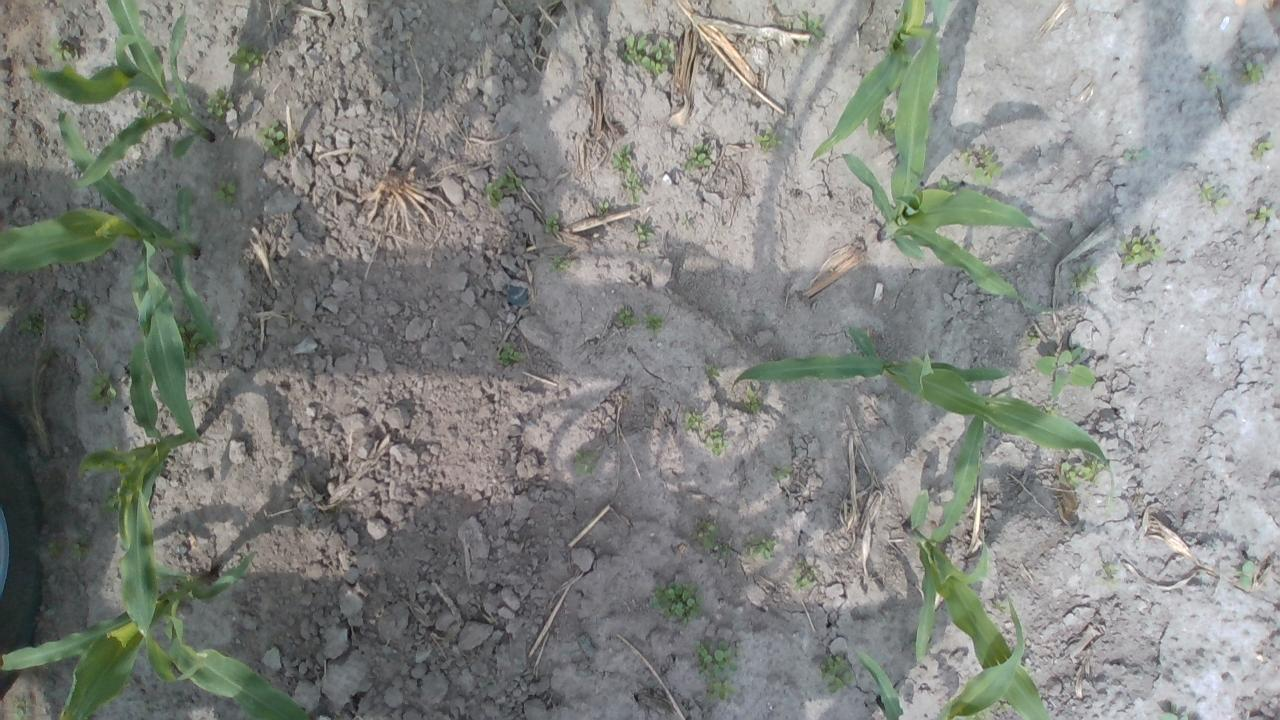Maize: (0, 451, 310, 720), (0, 110, 223, 451), (843, 0, 1046, 315), (732, 323, 1114, 490), (75, 294, 204, 686), (904, 414, 1054, 720), (33, 0, 215, 189), (854, 593, 1024, 720), (808, 0, 934, 163)
Weeds: (1034, 347, 1096, 398), (648, 580, 704, 625), (622, 35, 674, 74), (484, 168, 526, 210), (961, 144, 1002, 187), (696, 638, 739, 676), (174, 318, 204, 368), (819, 654, 856, 694), (255, 118, 291, 159), (1120, 235, 1164, 267), (1060, 458, 1106, 488), (792, 12, 826, 48), (228, 42, 264, 75), (86, 372, 118, 406), (204, 86, 234, 120), (1197, 180, 1233, 208), (705, 676, 737, 704), (744, 534, 777, 560), (46, 37, 76, 65), (16, 308, 44, 338), (753, 128, 784, 154), (682, 144, 713, 170), (1072, 262, 1098, 293), (213, 178, 238, 208), (494, 342, 524, 367), (696, 518, 718, 548), (704, 431, 729, 457), (624, 172, 644, 204), (742, 384, 764, 413), (611, 142, 632, 172), (876, 111, 896, 141), (1245, 204, 1275, 224), (793, 566, 816, 592), (1238, 62, 1264, 84), (574, 450, 595, 476), (1238, 560, 1256, 590), (1121, 146, 1154, 162), (68, 301, 92, 322), (1250, 138, 1274, 159), (644, 313, 665, 337), (136, 94, 158, 116), (1200, 67, 1222, 89), (616, 307, 640, 326), (102, 487, 120, 512), (12, 697, 30, 720), (1102, 563, 1120, 585), (550, 254, 570, 272), (684, 412, 702, 432), (544, 212, 560, 234), (70, 543, 88, 561), (988, 597, 1006, 615), (938, 177, 958, 193), (774, 464, 794, 480), (1159, 710, 1190, 720), (636, 223, 650, 242), (1039, 404, 1058, 418), (704, 362, 720, 376), (47, 544, 60, 558), (597, 200, 608, 214), (969, 711, 986, 720), (1026, 334, 1038, 346), (719, 544, 730, 557), (680, 214, 689, 224), (912, 640, 916, 649)
